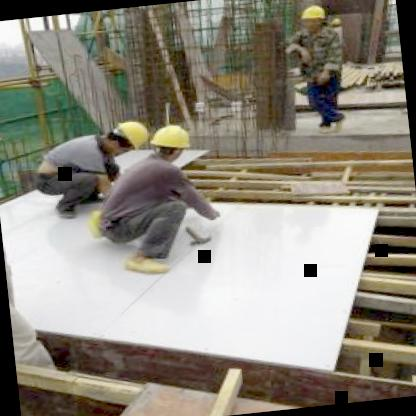helmet: (101, 116, 154, 158), (146, 121, 194, 164), (293, 2, 331, 30)
